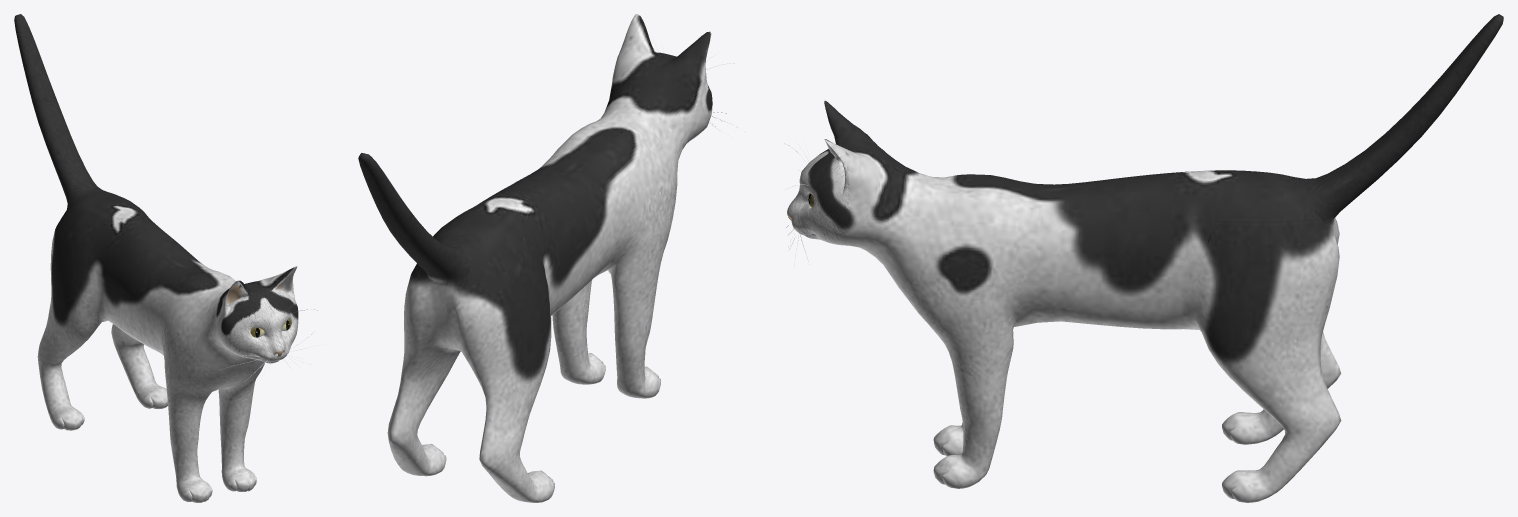
3 renders of one model, left to right at view 1: azimuth 30°, elevation 25°; view 2: azimuth 150°, elevation 25°; view 3: azimuth 270°, elevation 25°, orthographic. The views are drawn at different scales.
Visible parts, largest first — view 1: Mesh_2, Mesh_0, Mesh_5, Mesh_8, Mesh_6, Mesh_3; view 2: Mesh_2, Mesh_0, Mesh_5, Mesh_8; view 3: Mesh_2, Mesh_0, Mesh_5, Mesh_8, Mesh_6, Mesh_3.
Boxes of the visible parts, x1,y1,x2,y2 form: Mesh_2: (67,189,291,373); Mesh_0: (37,210,167,430); Mesh_5: (155,323,264,502); Mesh_8: (14,14,101,208); Mesh_6: (221,294,298,363); Mesh_3: (222,266,297,324); Mesh_2: (433,16,708,315); Mesh_0: (387,235,554,502); Mesh_5: (552,175,677,398); Mesh_8: (358,153,472,288); Mesh_2: (827,103,1314,329); Mesh_0: (1192,214,1341,502); Mesh_5: (899,260,1036,488); Mesh_8: (1305,14,1503,226); Mesh_6: (791,150,850,245); Mesh_3: (824,100,850,205).
Bounding box in the file's own units: 0.8995 × 2.49 × 3.62.
9 materials, 9 textured.
